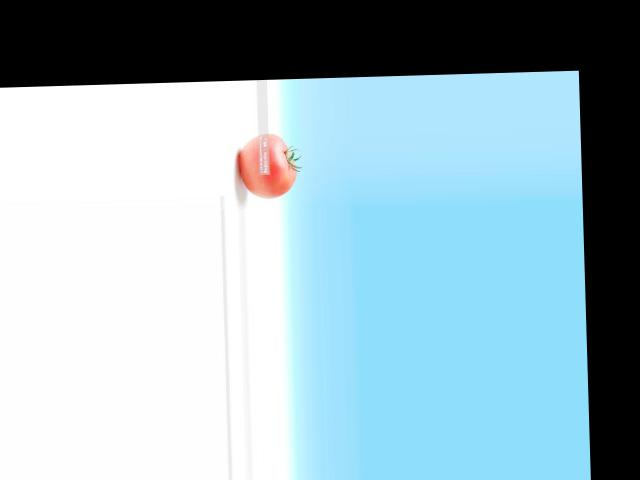tomato: (239, 131, 297, 198)
